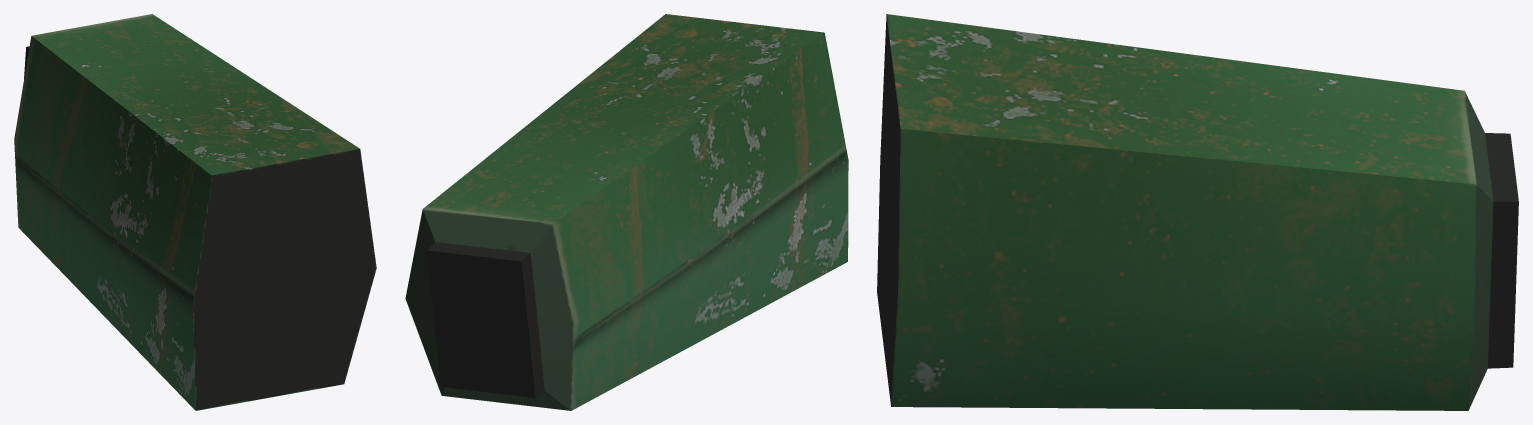
Rendered from JUST_Bicep.fbx.
The picture shows the model from 3 angles, left to right: view 1: azimuth 30°, elevation 25°; view 2: azimuth 150°, elevation 25°; view 3: azimuth 270°, elevation 25°; orthographic projection. The views are drawn at different scales.
Visible parts, largest first — view 1: Arm10; view 2: Arm10; view 3: Arm10.
Part boxes in pixels (x1,y1,x2,y2): Arm10: [14, 14, 376, 410]; Arm10: [405, 14, 848, 410]; Arm10: [877, 14, 1518, 410].
Bounding box in the file's own units: 0.0862 × 0.0947 × 0.178.
1 material, 1 textured.
